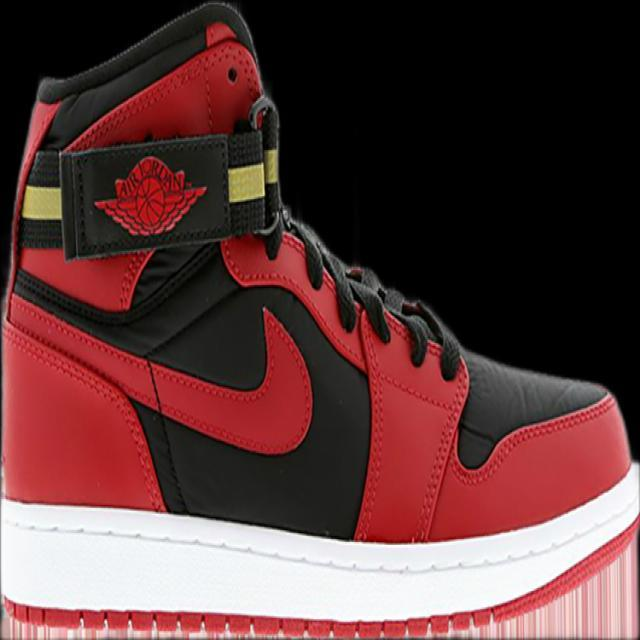J1_InsoleChar: (0, 0, 639, 639)
J1_ShoeLogo: (92, 153, 208, 238)
J1_StitchPattern: (16, 127, 465, 383), (0, 463, 639, 639), (282, 210, 471, 543), (2, 491, 639, 578), (19, 124, 282, 258), (2, 312, 173, 513), (282, 211, 464, 381), (1, 603, 639, 639), (282, 213, 392, 340), (409, 352, 471, 544), (223, 98, 286, 256), (120, 392, 191, 513), (382, 289, 463, 379), (224, 127, 269, 234), (17, 147, 64, 249)
